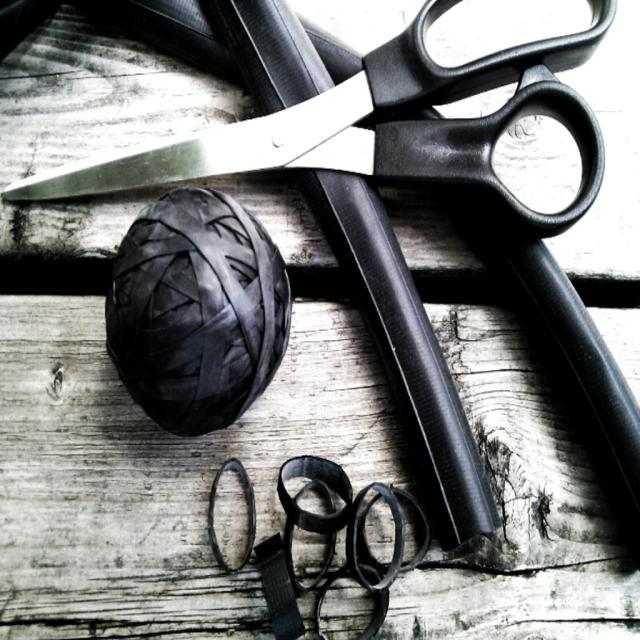scissors: (1, 0, 638, 560)
